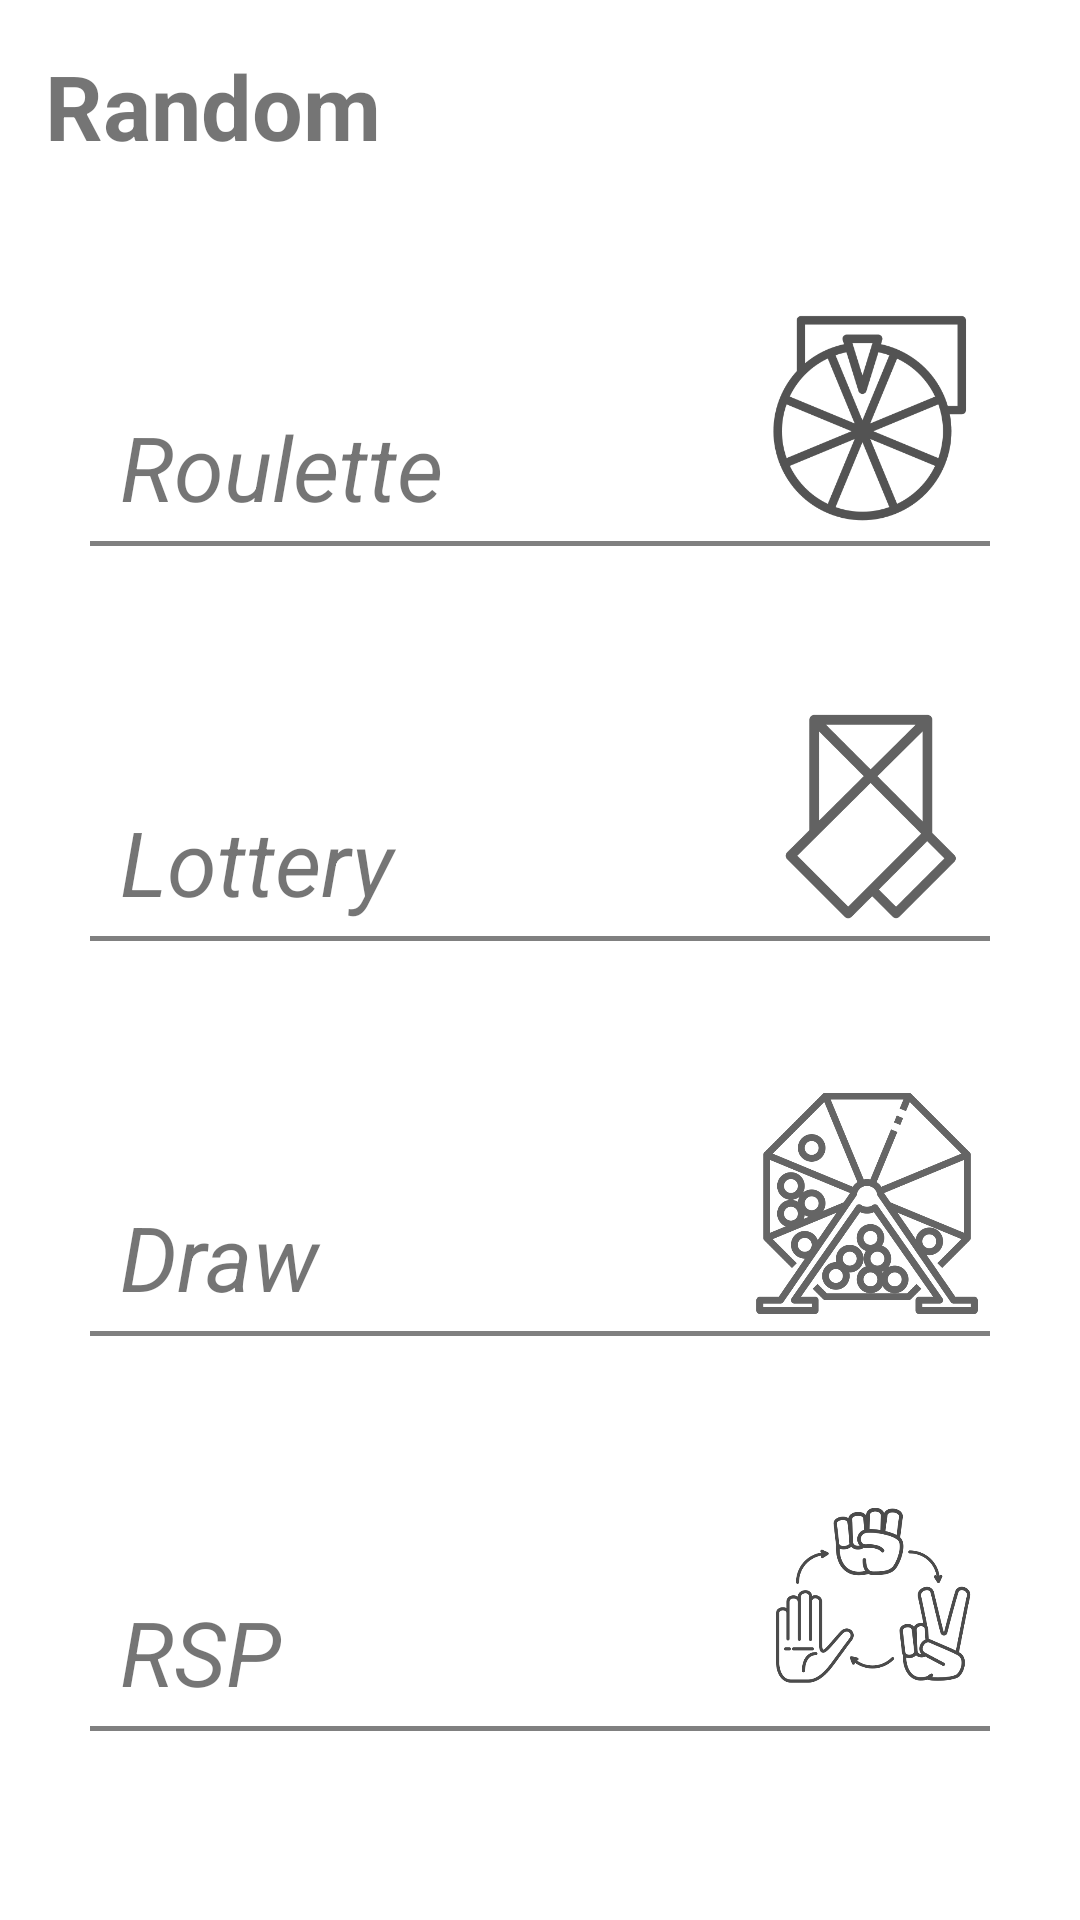

Icons on this 1080*1920 Android screen, each with the point to tap as point (x, y):
draw: point (867, 1203)
init rsp: point (873, 1595)
roulette: point (869, 418)
